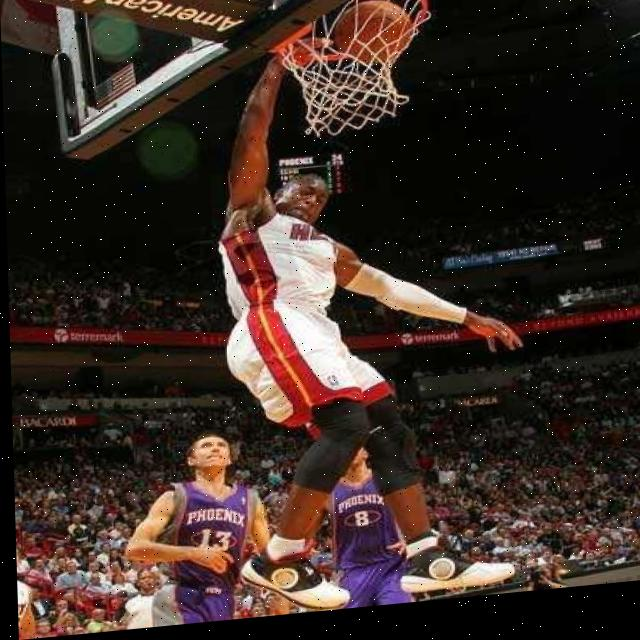basketball: (331, 0, 417, 68)
hoop: (276, 0, 434, 141), (273, 0, 431, 141)
